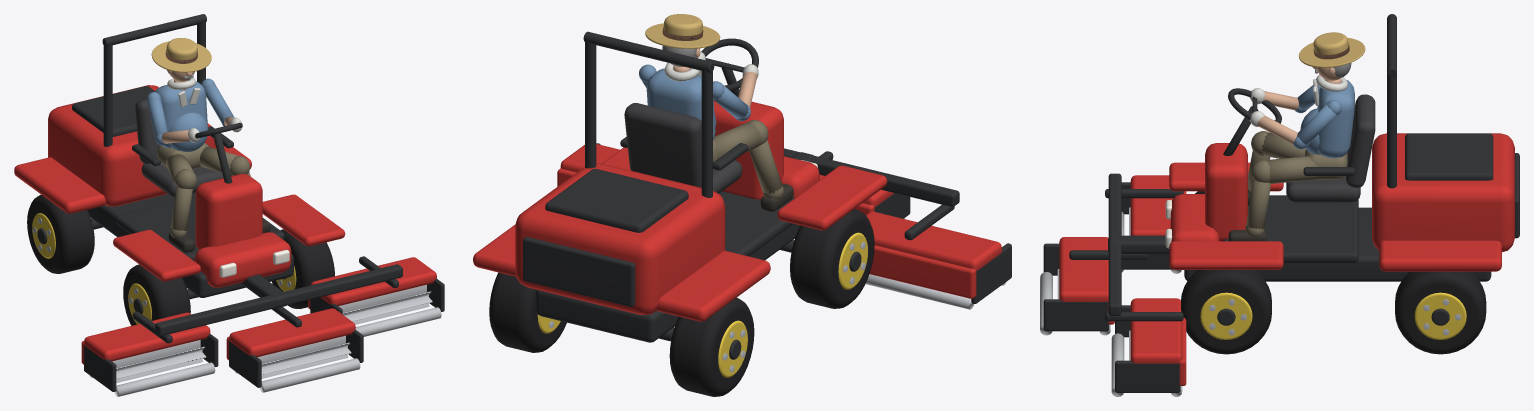
File: mower.glb
3 views of the same model, side by side, from view 1: azimuth 30°, elevation 25°; view 2: azimuth 150°, elevation 25°; view 3: azimuth 270°, elevation 25° (orthographic). The views are drawn at different scales.
Parts seen in each view (by area): view 1: hood, cowl, deck_beam, unit_cover_1, wheel_1, nose, fender_r_-1, unit_cover_2, fender_f_-1, fender_f_1, frame, wheel_3 (+36 smaller); view 2: hood, hood_top, seat_back, wheel_3, grille, wheel_1, fender_r_-1, frame, unit_cover_2, fender_f_-1, wheel_0, unit_back_2 (+23 smaller); view 3: hood, floor, wheel_2, wheel_0, hood_top, fender_r_1, driver, cowl, frame, fender_f_1, unit_cover_0, unit_cover_1 (+29 smaller).
Boxes of the visible parts, <box> form: hood: <box>48,85,215,206</box>; cowl: <box>195,174,262,249</box>; deck_beam: <box>155,264,402,335</box>; unit_cover_1: <box>229,308,355,357</box>; wheel_1: <box>27,194,94,273</box>; nose: <box>195,232,291,287</box>; fender_r_-1: <box>14,157,105,213</box>; unit_cover_2: <box>84,312,210,361</box>; fender_f_-1: <box>113,229,200,281</box>; fender_f_1: <box>262,194,345,246</box>; frame: <box>87,193,293,297</box>; wheel_3: <box>123,264,190,325</box>; hood: <box>515,163,725,314</box>; hood_top: <box>545,169,688,232</box>; seat_back: <box>624,103,701,187</box>; wheel_3: <box>790,209,874,308</box>; grille: <box>523,237,635,306</box>; wheel_1: <box>669,297,754,396</box>; fender_r_-1: <box>656,250,770,321</box>; frame: <box>536,223,800,342</box>; unit_cover_2: <box>866,211,1001,270</box>; fender_f_-1: <box>777,165,887,230</box>; wheel_0: <box>489,272,566,352</box>; unit_back_2: <box>869,245,976,298</box>; hood: <box>1372,133,1514,252</box>; floor: <box>1223,195,1358,263</box>; wheel_2: <box>1181,270,1271,354</box>; wheel_0: <box>1395,271,1486,354</box>; hood_top: <box>1405,133,1493,180</box>; fender_r_1: <box>1379,240,1501,271</box>; driver: <box>1228,67,1336,241</box>; cowl: <box>1205,143,1247,241</box>; frame: <box>1184,207,1491,281</box>; fender_f_1: <box>1169,241,1283,269</box>; unit_cover_0: <box>1130,298,1182,363</box>; unit_cover_1: <box>1059,237,1108,301</box>.
Size of the model in its own units: 3 by 2.11 by 3.36.
